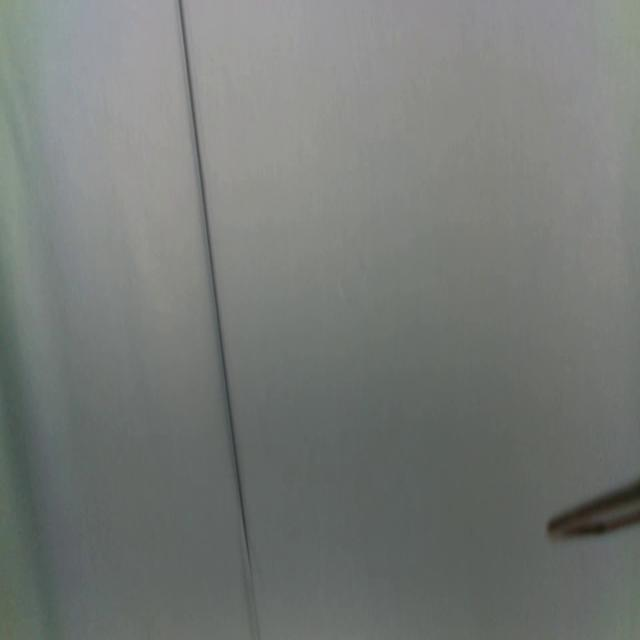crease: (178, 0, 260, 640)
